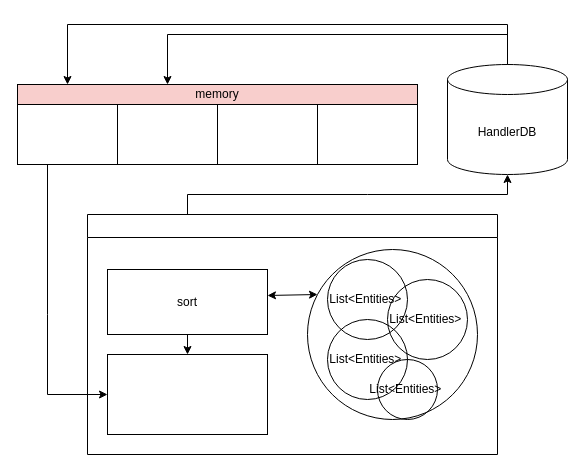
This 585x472 diagram has some shape labels left out. Here are the shapes that lost their labels. From the top down, the box of each, then its label:
(16, 84, 118, 164): Bullet_01 Handler
(116, 84, 218, 164): Bullet_02 Handler
(86, 214, 498, 454): System
(106, 354, 268, 434): foreach(var entity in List) Handler[entityID].Update()
